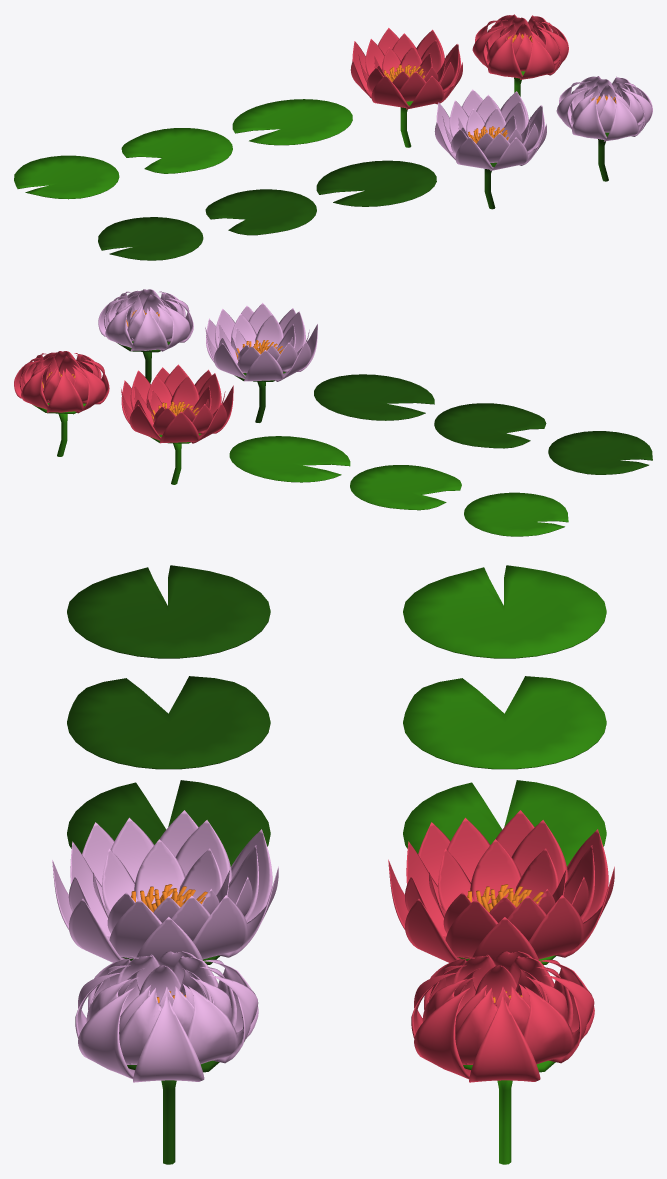
Rendered from lily_collection.fbx.
The picture shows the model from 3 angles, top to bottom: view 1: azimuth 30°, elevation 25°; view 2: azimuth 150°, elevation 25°; view 3: azimuth 270°, elevation 25°; orthographic projection. The views are drawn at different scales.
Parts seen in each view (by area): view 1: Lily_flower open.001, Lily_flower open.002, Lily_flower closed.002, Lily_flower closed.001, Lily_leaf.004, Lily_leaf.001, Lily_leaf.005, Lily_leaf.002, Lily_leaf.006, Lily_leaf.003; view 2: Lily_flower open.001, Lily_flower open.002, Lily_flower closed.001, Lily_flower closed.002, Lily_leaf.004, Lily_leaf.001, Lily_leaf.005, Lily_leaf.002, Lily_leaf.003, Lily_leaf.006; view 3: Lily_flower open.001, Lily_flower open.002, Lily_flower closed.001, Lily_flower closed.002, Lily_leaf.005, Lily_leaf.002, Lily_leaf.003, Lily_leaf.006, Lily_leaf.001, Lily_leaf.004.
Boxes of the visible parts, x1,y1,x2,y2 form: Lily_flower open.001: (350,28,462,147); Lily_flower open.002: (434,89,546,209); Lily_flower closed.002: (556,76,652,181); Lily_flower closed.001: (472,14,568,96); Lily_leaf.004: (316,160,436,206); Lily_leaf.001: (232,99,352,145); Lily_leaf.005: (205,189,316,235); Lily_leaf.002: (121,128,232,173); Lily_leaf.006: (98,217,203,260); Lily_leaf.003: (14,155,119,199); Lily_flower open.001: (121,364,233,484); Lily_flower open.002: (205,303,317,422); Lily_flower closed.001: (14,351,109,456); Lily_flower closed.002: (98,289,193,383); Lily_leaf.004: (314,374,434,420); Lily_leaf.001: (229,436,350,482); Lily_leaf.005: (434,403,546,448); Lily_leaf.002: (350,465,461,510); Lily_leaf.003: (464,492,568,536); Lily_leaf.006: (548,431,652,474); Lily_flower open.001: (388,810,614,964); Lily_flower open.002: (52,810,278,964); Lily_flower closed.001: (411,951,594,1164); Lily_flower closed.002: (75,951,258,1164); Lily_leaf.005: (67,676,270,769); Lily_leaf.002: (403,676,606,769); Lily_leaf.003: (403,565,606,658); Lily_leaf.006: (67,565,270,658); Lily_leaf.001: (403,780,606,866); Lily_leaf.004: (67,780,270,866).
Bounding box in the file's own units: 1195 × 204 × 536.
